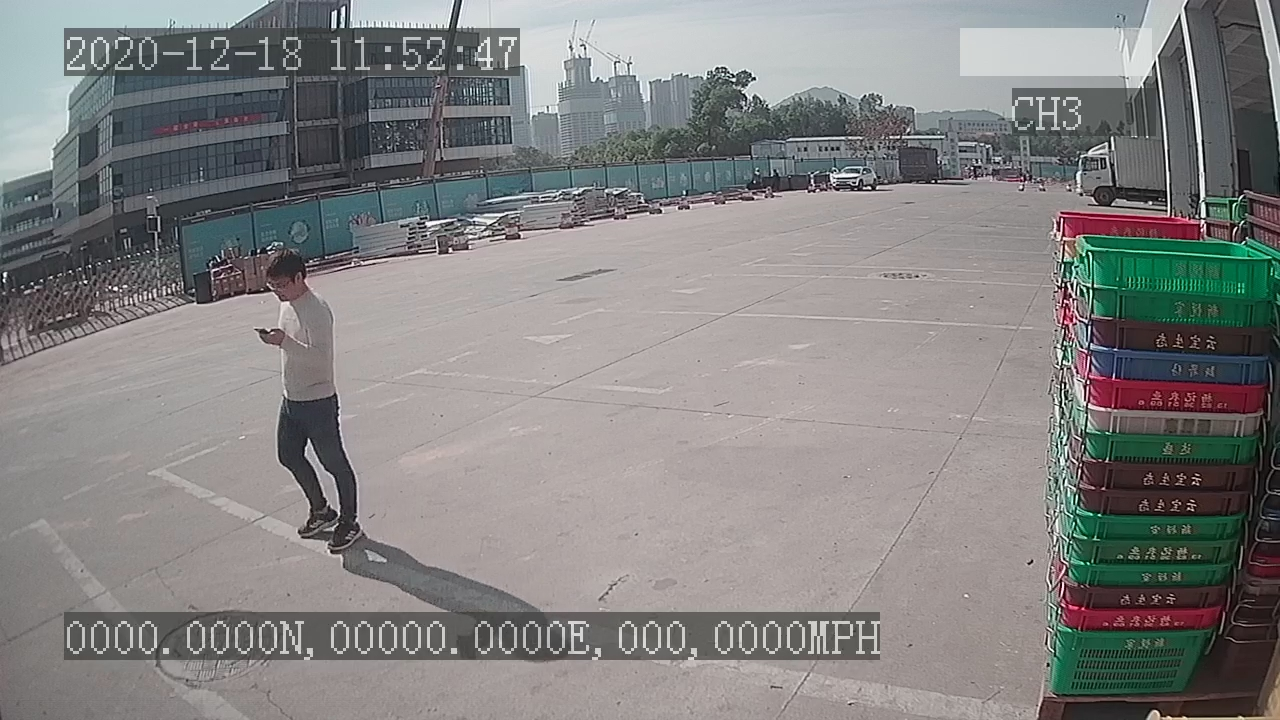person: (249, 242, 377, 560)
